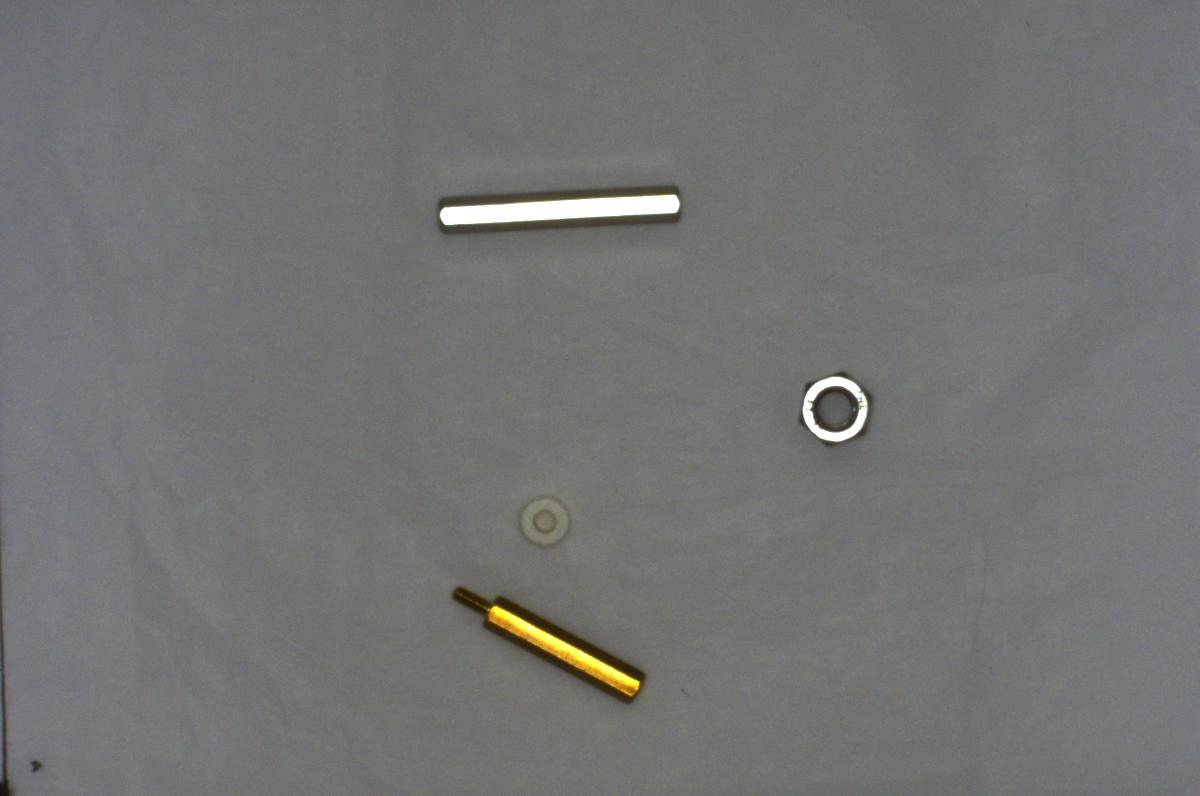Double hexagonal column: (428, 172, 685, 238)
Hexagon nut: (785, 369, 875, 450)
Hexagon pillar: (444, 580, 652, 708)
Plastic cushion pillar: (510, 487, 578, 552)
